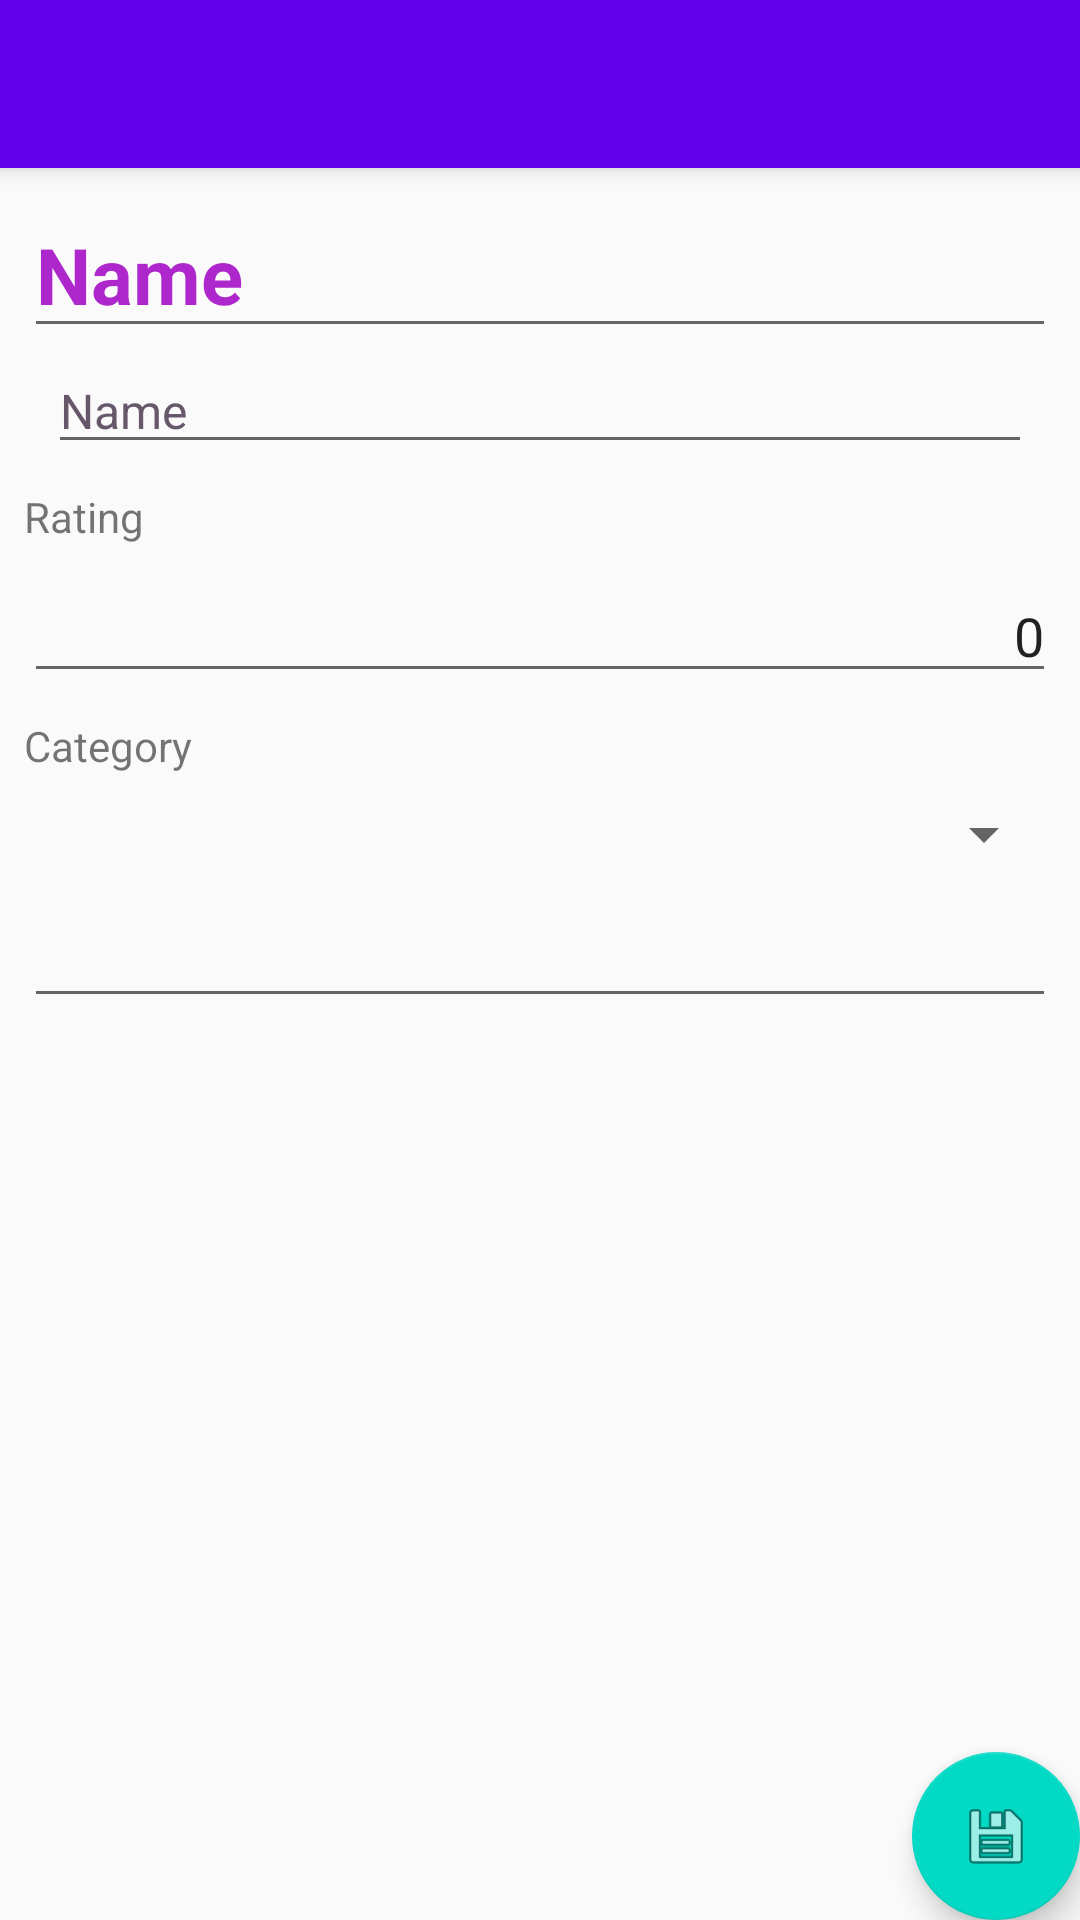

Point at icon controls on the screen. Image size 1080 x 1920, points as point (x, y).
save: point (996, 1836)
